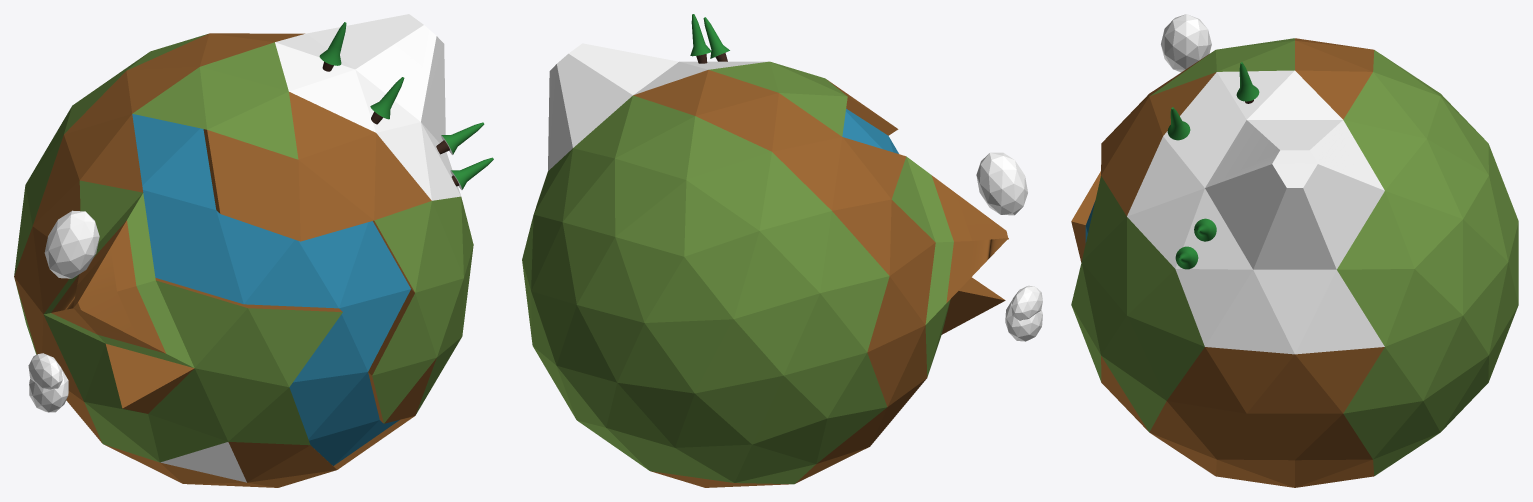
3 renders of one model, left to right at view 1: azimuth 30°, elevation 25°; view 2: azimuth 150°, elevation 25°; view 3: azimuth 270°, elevation 25°, orthographic. The views are drawn at different scales.
Parts seen in each view (by area): view 1: GeoSphere001; view 2: GeoSphere001; view 3: GeoSphere001.
Part boxes in pixels (x1=…): GeoSphere001: x1=14, y1=14, x2=493, y2=487; GeoSphere001: x1=522, y1=14, x2=1042, y2=487; GeoSphere001: x1=1071, y1=14, x2=1518, y2=487.
Size of the model in its own units: 83.99 by 76.97 by 70.93.
